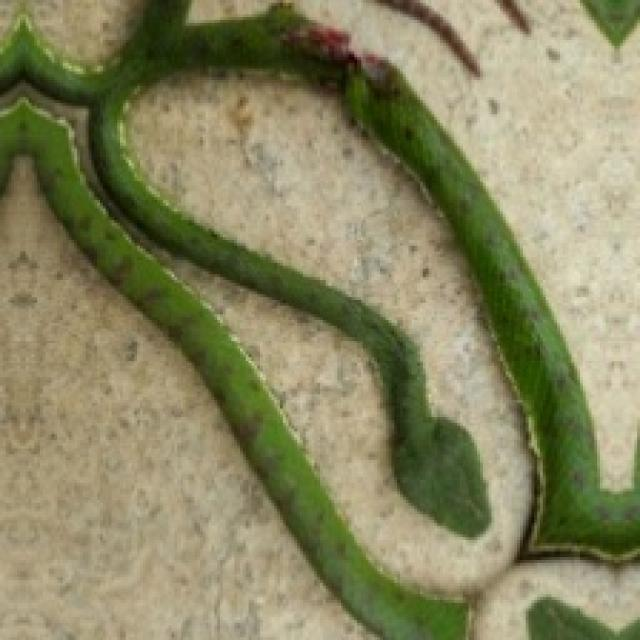philippine pitviper: (0, 0, 640, 554), (0, 101, 466, 640)
